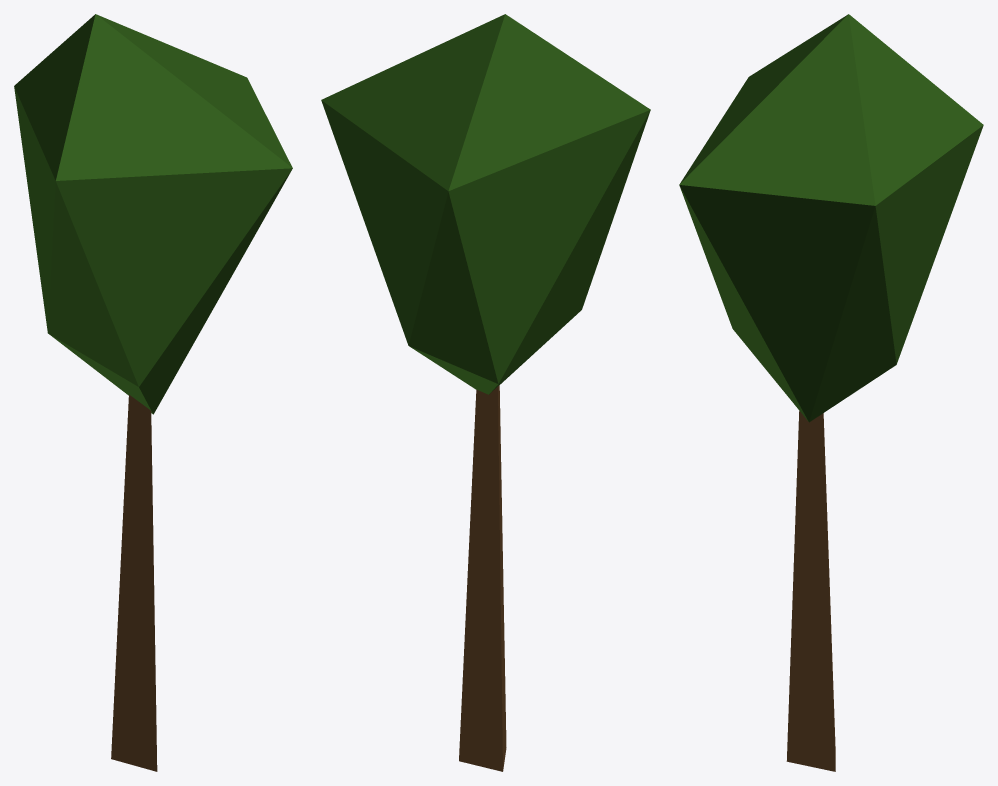
Rendered from TREE.fbx.
3 views of the same model, side by side, from view 1: azimuth 30°, elevation 25°; view 2: azimuth 150°, elevation 25°; view 3: azimuth 270°, elevation 25° (orthographic). The views are drawn at different scales.
Parts seen in each view (by area): view 1: Cube, Polygon_27_4_1; view 2: Cube, Polygon_27_4_1; view 3: Cube, Polygon_27_4_1.
Boxes of the visible parts, x1,y1,x2,y2 form: Cube: (14,14,292,414); Polygon_27_4_1: (111,394,157,771); Cube: (321,14,650,394); Polygon_27_4_1: (459,385,506,771); Cube: (679,14,983,422); Polygon_27_4_1: (786,411,835,771).
Size of the model in its own units: 197 by 547 by 206.
Materials: 1 (1 with a texture image).
